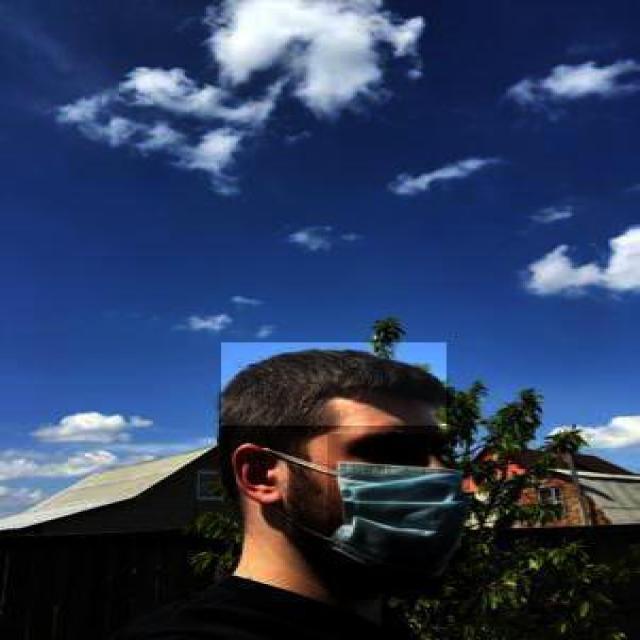face_mask: (329, 434, 473, 602)
head_nohelmet: (221, 342, 449, 428)
